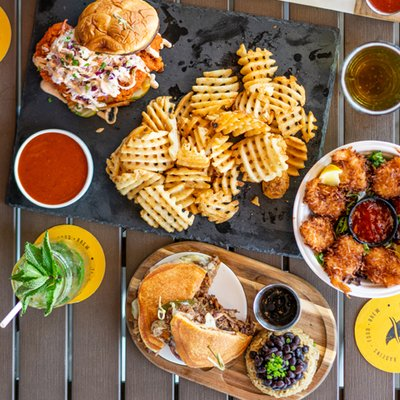soup: (137, 258, 219, 354)
sushi: (291, 141, 400, 299), (3, 224, 106, 321), (12, 128, 95, 209), (340, 41, 400, 116), (253, 284, 301, 333)
